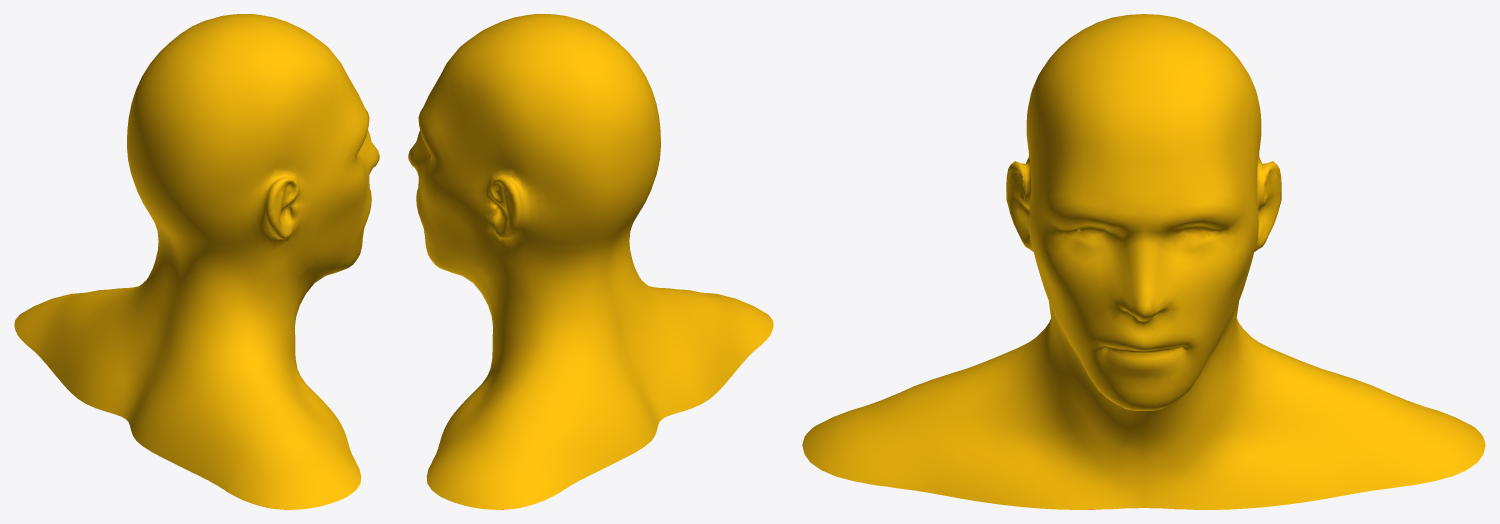
File: head.gltf
3 views of the same model, side by side, from view 1: azimuth 30°, elevation 25°; view 2: azimuth 150°, elevation 25°; view 3: azimuth 270°, elevation 25° (orthographic). The views are drawn at different scales.
Visible parts, largest first — view 1: Boole ראש; view 2: Boole ראש; view 3: Boole ראש.
Boxes of the visible parts, <box> form: Boole ראש: <box>14,14,379,509</box>; Boole ראש: <box>408,14,773,509</box>; Boole ראש: <box>802,14,1485,509</box>.
Size of the model in its own units: 3487 by 4531 by 6212.
